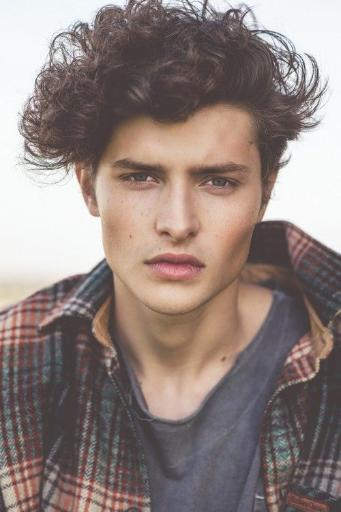left_eye: (200, 175, 244, 195)
left_lip_corner: (200, 261, 210, 276)
right_eye: (118, 170, 162, 191)
right_lip_corner: (141, 257, 154, 275)
